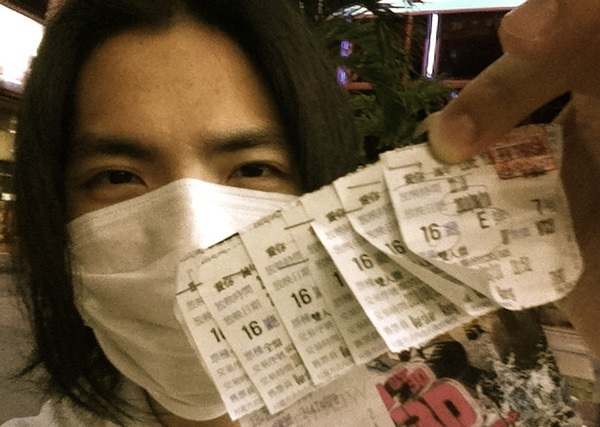face_mask: (69, 56, 305, 373)
